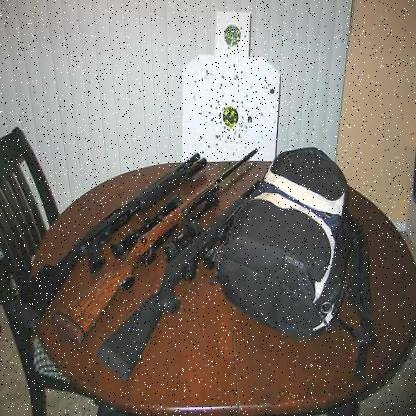rifle: (52, 139, 277, 341), (0, 138, 219, 331), (97, 173, 267, 394)
